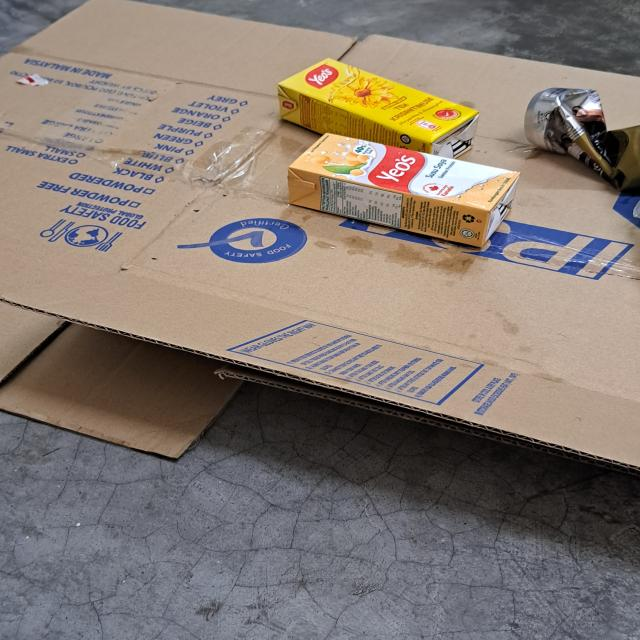can: (523, 87, 640, 194)
cardboard: (0, 0, 640, 474)
drink carton: (286, 132, 521, 248), (280, 58, 480, 157)
